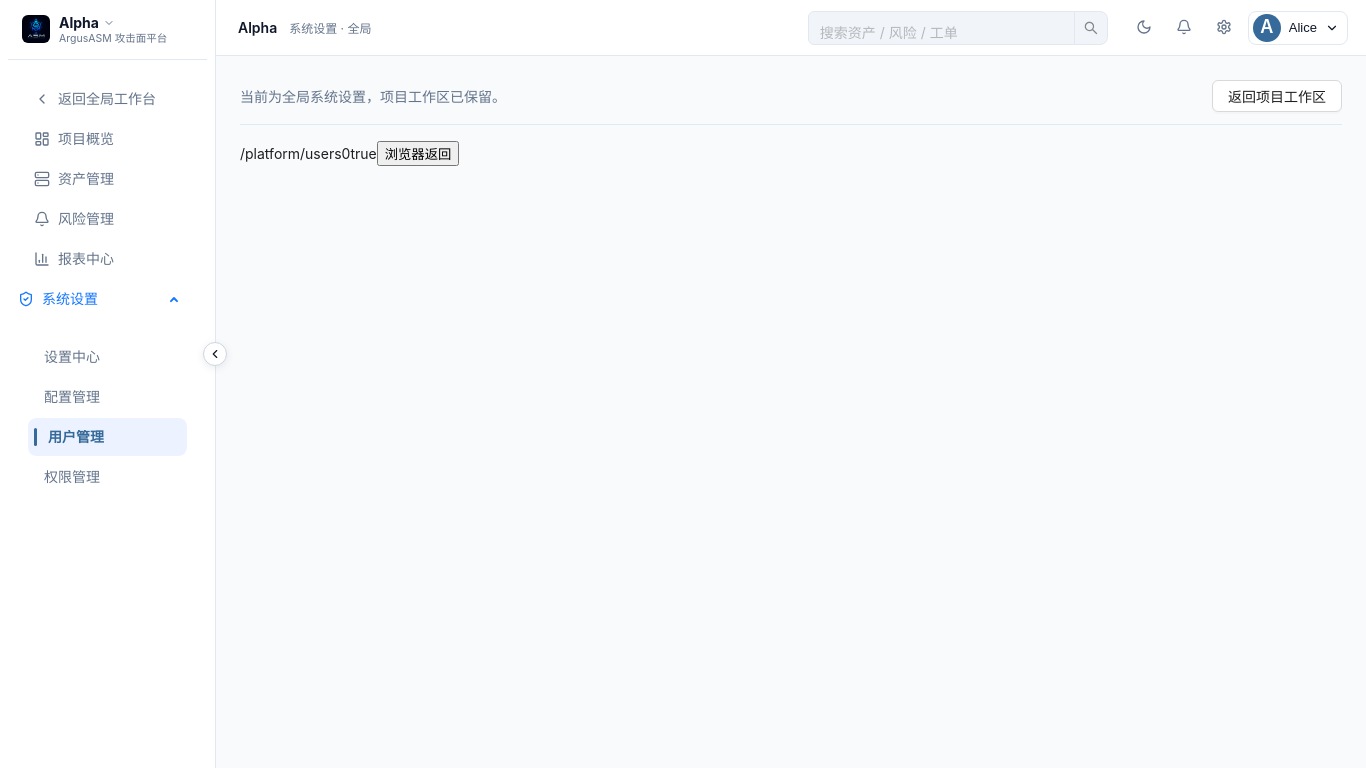
Test: persistent project navigation › restores the project on platform refresh and clears it on explicit exit
The image size is (1366, 768).
Expected: the button "返回项目工作区" is enabled, left=1212, top=80, right=1342, bottom=112
Click the button "返回全局工作台" at (95,98), box left=34, top=90, right=156, bottom=107
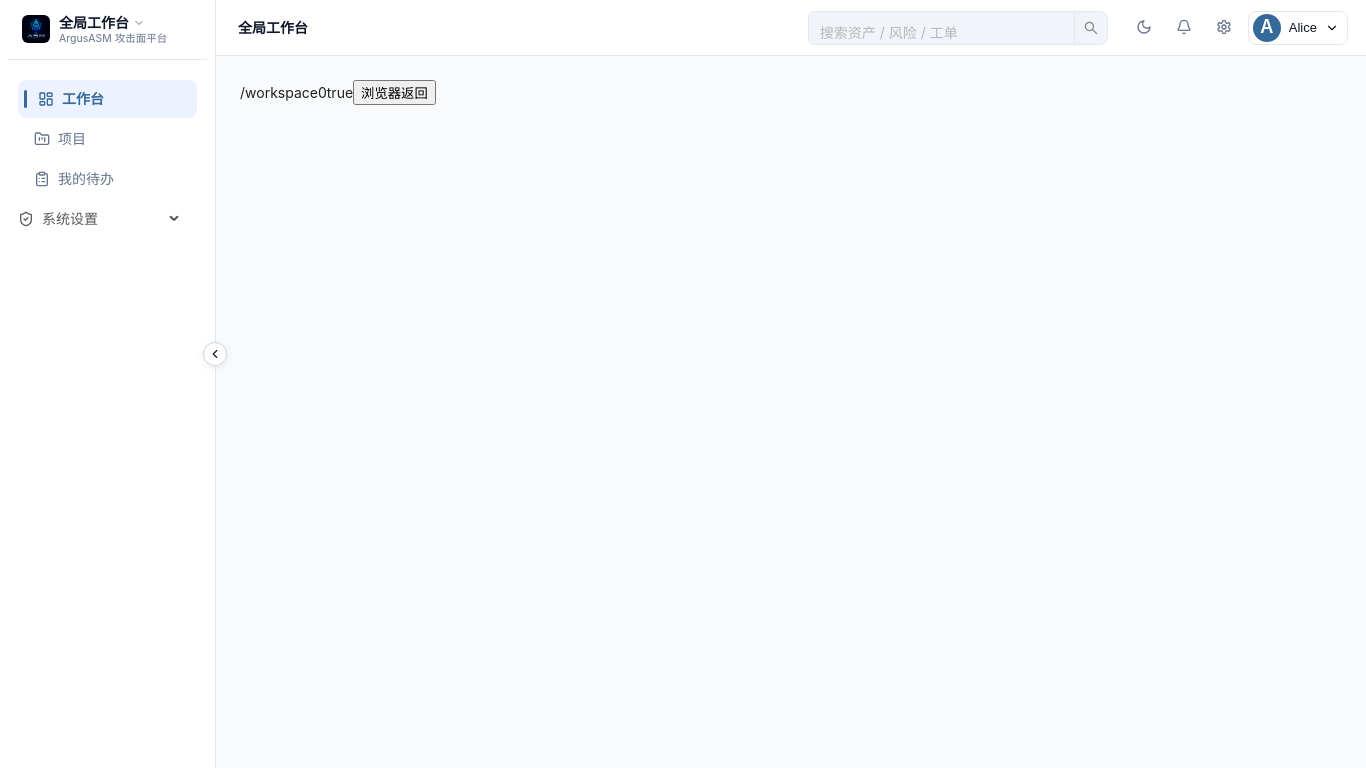
Expected: the button "工作台" is shown, left=18, top=80, right=197, bottom=118
Expected: the text with test id "route" reads "/workspace", left=240, top=84, right=318, bottom=101
Expected: the button "资产管理" is gone
